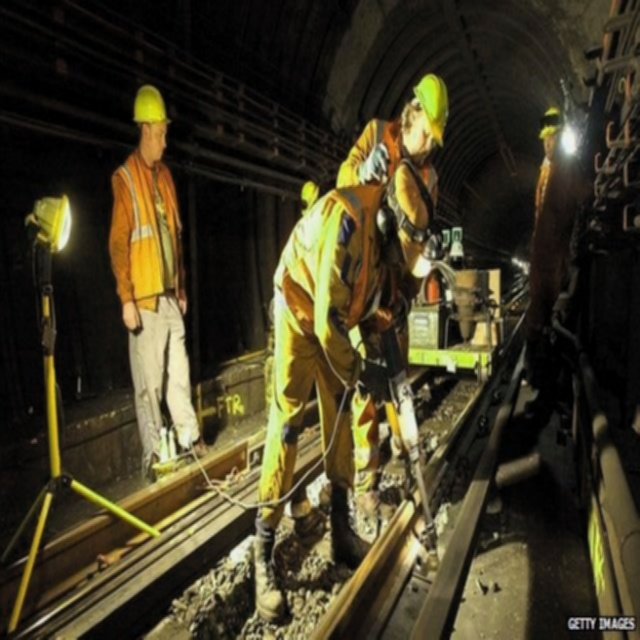Con_Casco: (401, 74, 448, 156), (134, 86, 173, 156)
Con_Chaleco: (113, 157, 180, 292)
